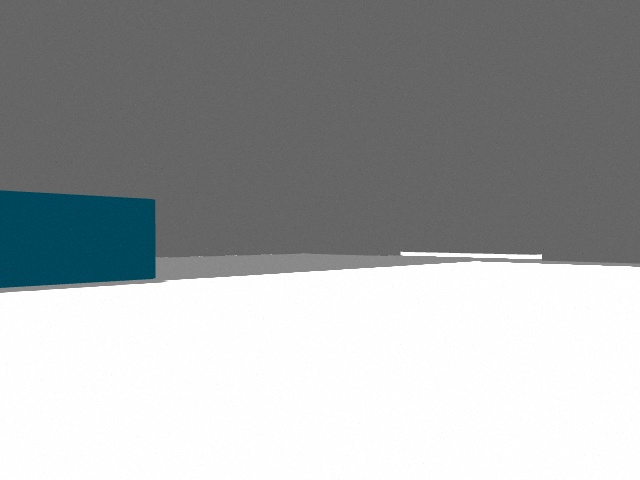blue_drop_zone: (0, 190, 156, 288)
